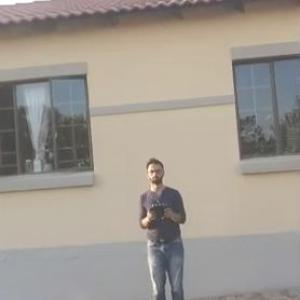follow: (134, 154, 192, 299)
